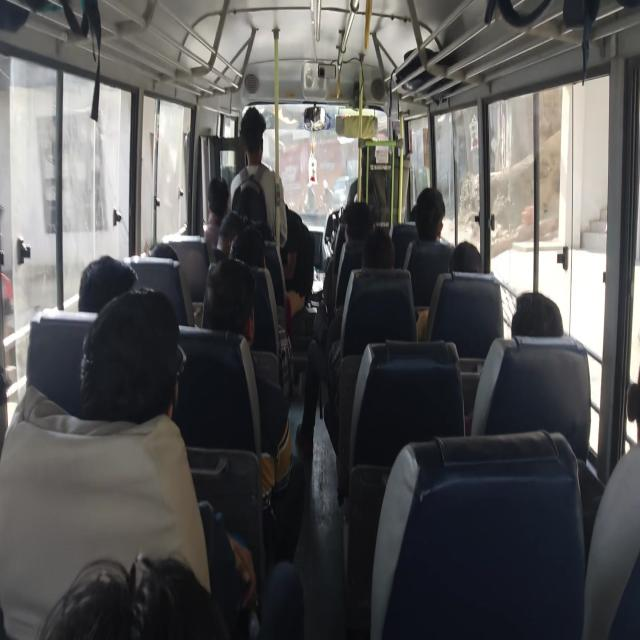person: (212, 258, 252, 323), (228, 230, 272, 278), (239, 115, 271, 176), (242, 202, 273, 245), (203, 174, 241, 204)
